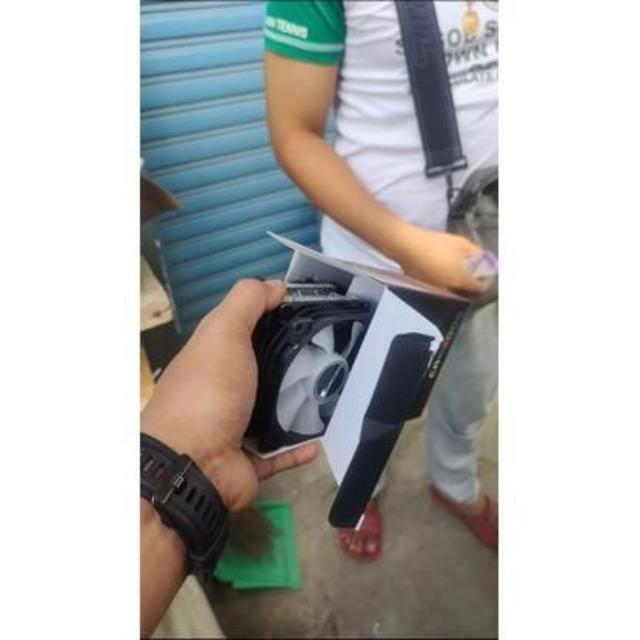CPU_Fan: (241, 280, 370, 454)
